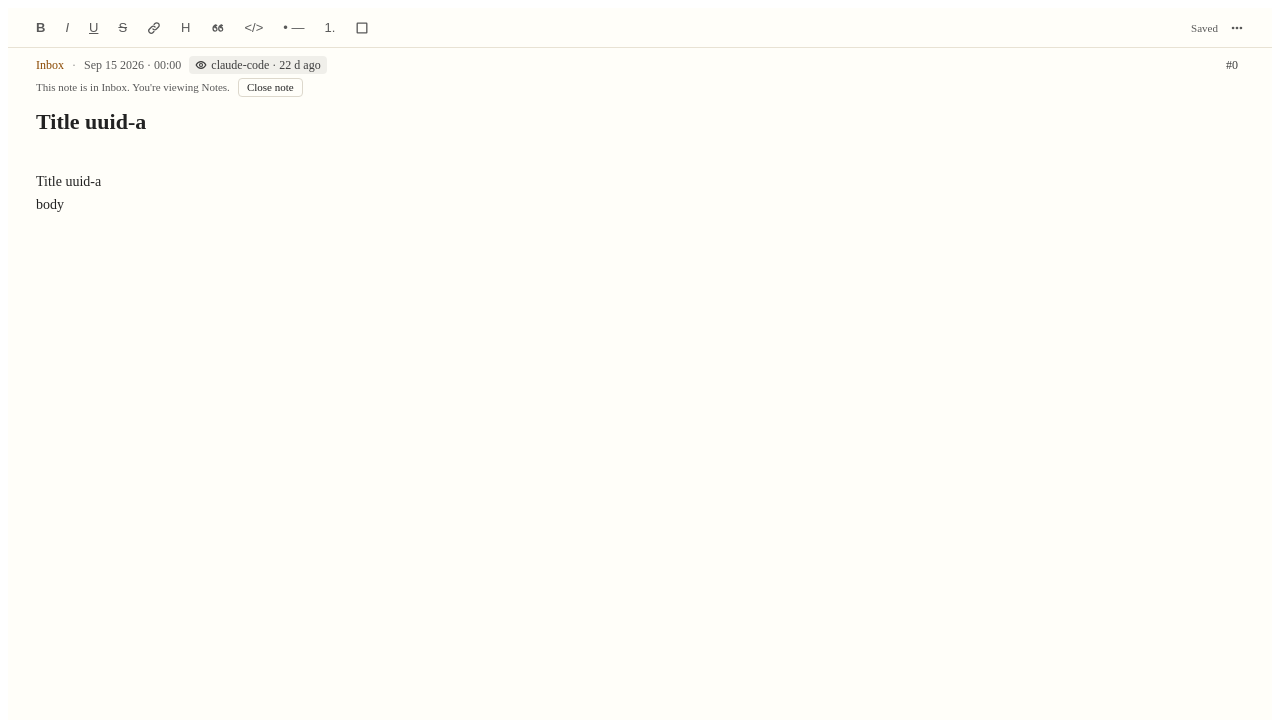
Scenario: trust chip › after a successful Mark reviewed, a new change for the same note does not reopen the popover
What coordinates should you click on to do the following:
click the button with test id "trust-chip"
I would click on:
 (258, 65)
Its box is [189,56,327,74].
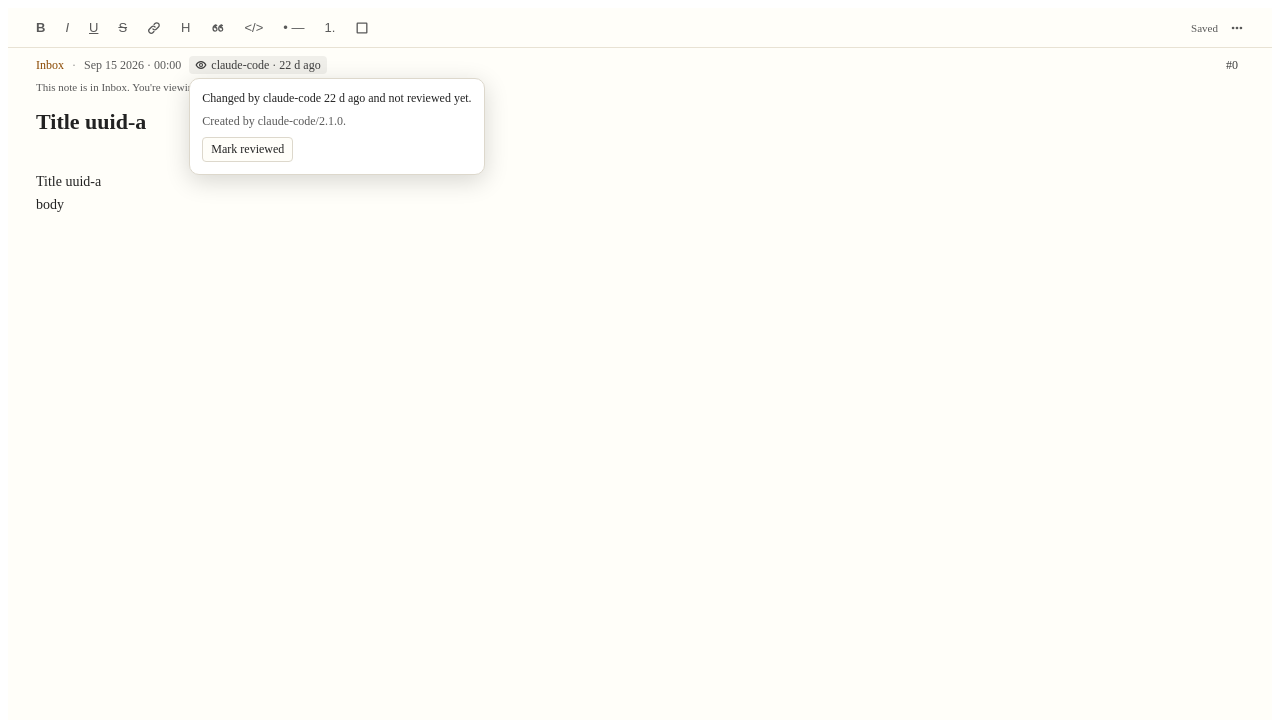
What coordinates should you click on to do the following:
click the button with class "mark-reviewed-btn"
I would click on:
 (248, 150)
Its box is [202,137,293,162].
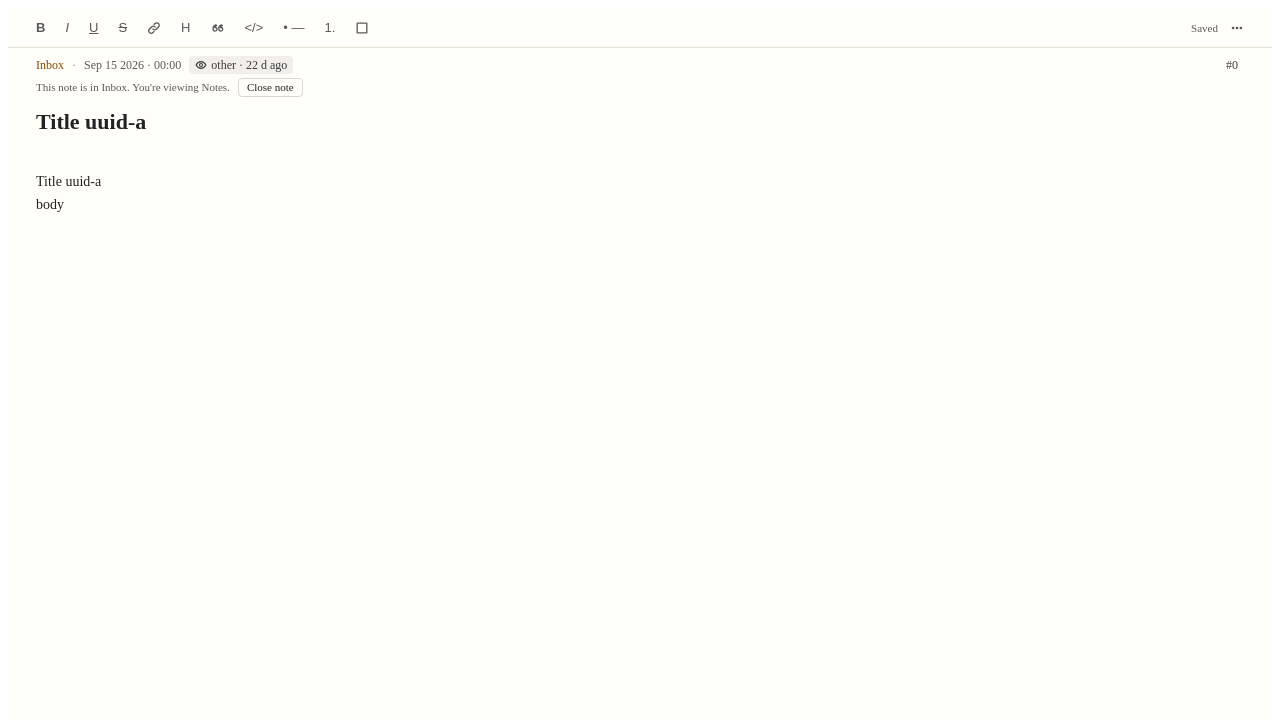
Check: the button with test id "trust-chip" shows "other", box [189,56,293,74]
Check: the dialog with test id "meta-status-popover" is gone
